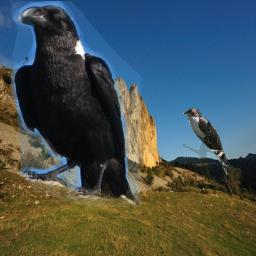Crow: (11, 1, 141, 207)
Cuckoo: (183, 108, 234, 175)
